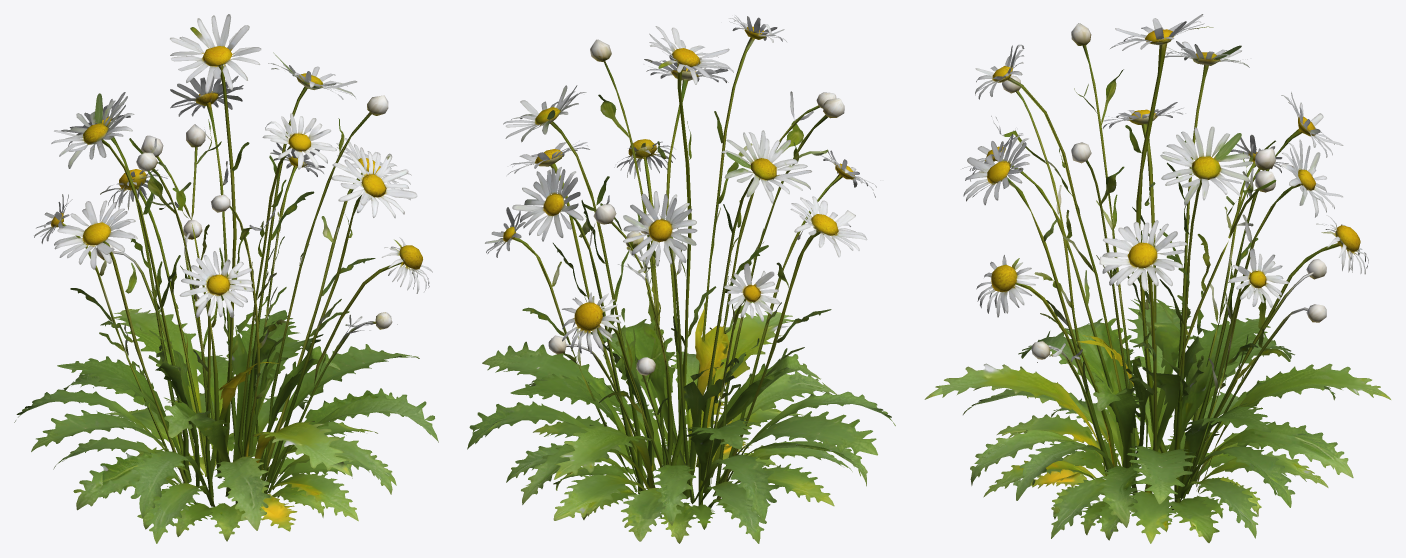
File: margaritas_1_LOD0.glb
3 renders of one model, left to right at view 1: azimuth 30°, elevation 25°; view 2: azimuth 150°, elevation 25°; view 3: azimuth 270°, elevation 25°, orthographic. The views are drawn at different scales.
Visible parts, largest first — view 1: tripo_node_9859cf5e-fe7d-4159-aad5-e9121052a4d0; view 2: tripo_node_9859cf5e-fe7d-4159-aad5-e9121052a4d0; view 3: tripo_node_9859cf5e-fe7d-4159-aad5-e9121052a4d0.
Part boxes in pixels (x1,y1,x2,y2): tripo_node_9859cf5e-fe7d-4159-aad5-e9121052a4d0: (14,14,438,543); tripo_node_9859cf5e-fe7d-4159-aad5-e9121052a4d0: (467,15,895,543); tripo_node_9859cf5e-fe7d-4159-aad5-e9121052a4d0: (924,14,1390,543).
Size of the model in its own units: 0.8779 by 0.9998 by 0.877.
Materials: 1 (1 with a texture image).
